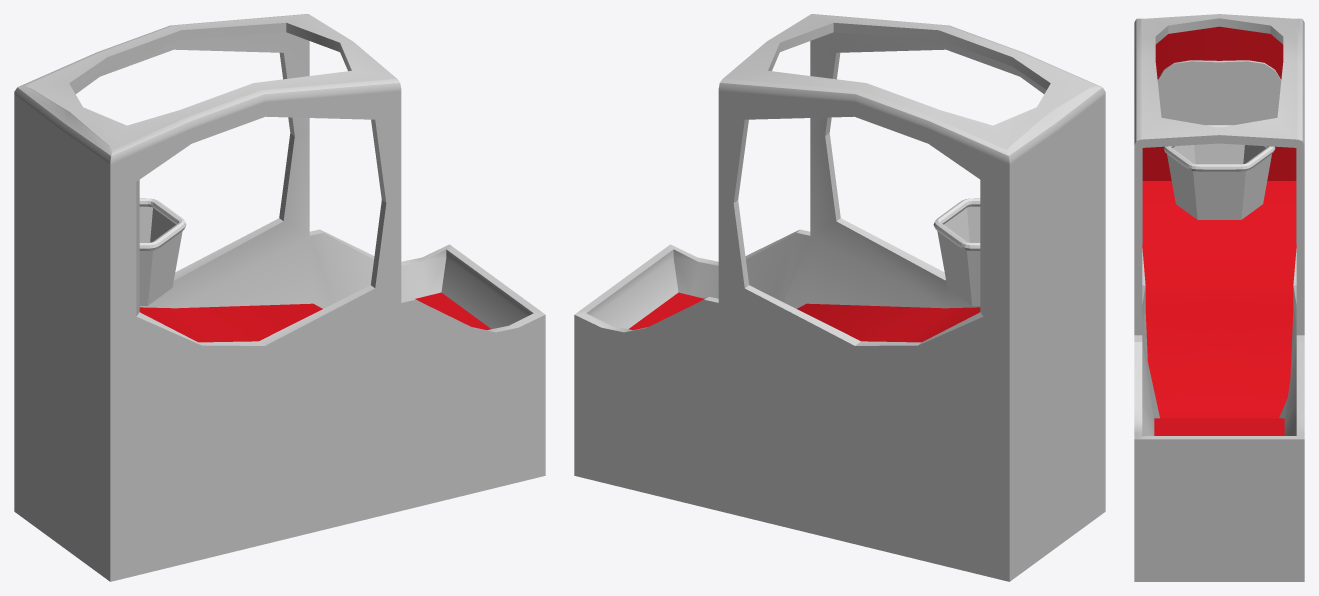
The model's file is HoopsArcade.fbx.
The picture shows the model from 3 angles, left to right: view 1: azimuth 30°, elevation 25°; view 2: azimuth 150°, elevation 25°; view 3: azimuth 270°, elevation 25°; orthographic projection. The views are drawn at different scales.
Visible parts, largest first — view 1: Cube; view 2: Cube; view 3: Cube.
Boxes of the visible parts, <box> form: Cube: <box>14,14,545,581</box>; Cube: <box>574,14,1105,581</box>; Cube: <box>1134,14,1304,581</box>.
Bounding box in the file's own units: 14948 × 14847 × 5714.
